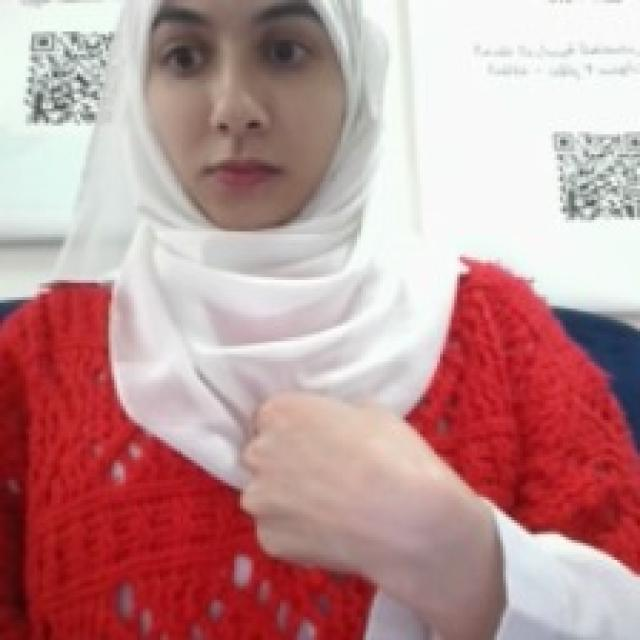me: (228, 386, 436, 581)
